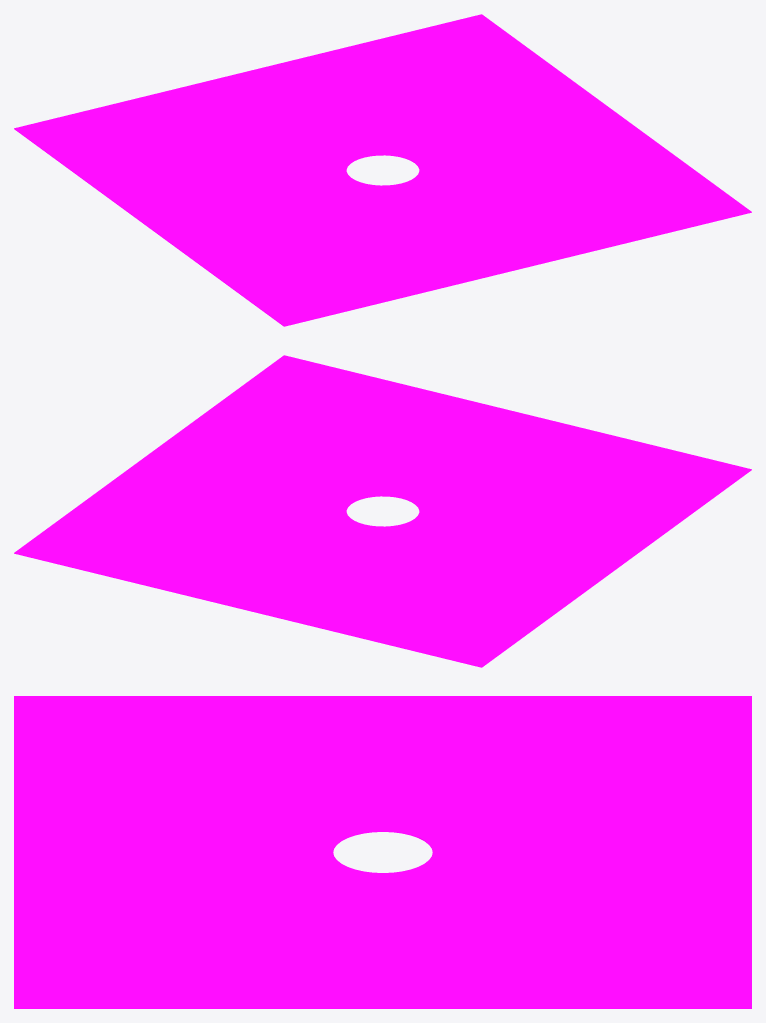
Rendered from Square_Floor_Exit.fbx.
3 views of the same model, one above another, from view 1: azimuth 30°, elevation 25°; view 2: azimuth 150°, elevation 25°; view 3: azimuth 270°, elevation 25° (orthographic). The views are drawn at different scales.
Parts seen in each view (by area): view 1: Square_Floor_Exit; view 2: Square_Floor_Exit; view 3: Square_Floor_Exit.
Part boxes in pixels (left/top/right/bottom): Square_Floor_Exit: left=14, top=14, right=751, bottom=326; Square_Floor_Exit: left=14, top=355, right=751, bottom=667; Square_Floor_Exit: left=14, top=696, right=751, bottom=1008.
Size of what is drawn, in the model's own units: 6800 by 10 by 6800.
